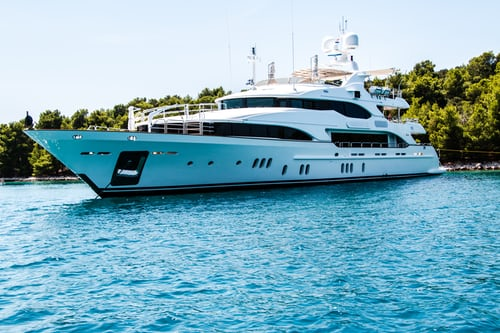yacht: (25, 25, 466, 207)
